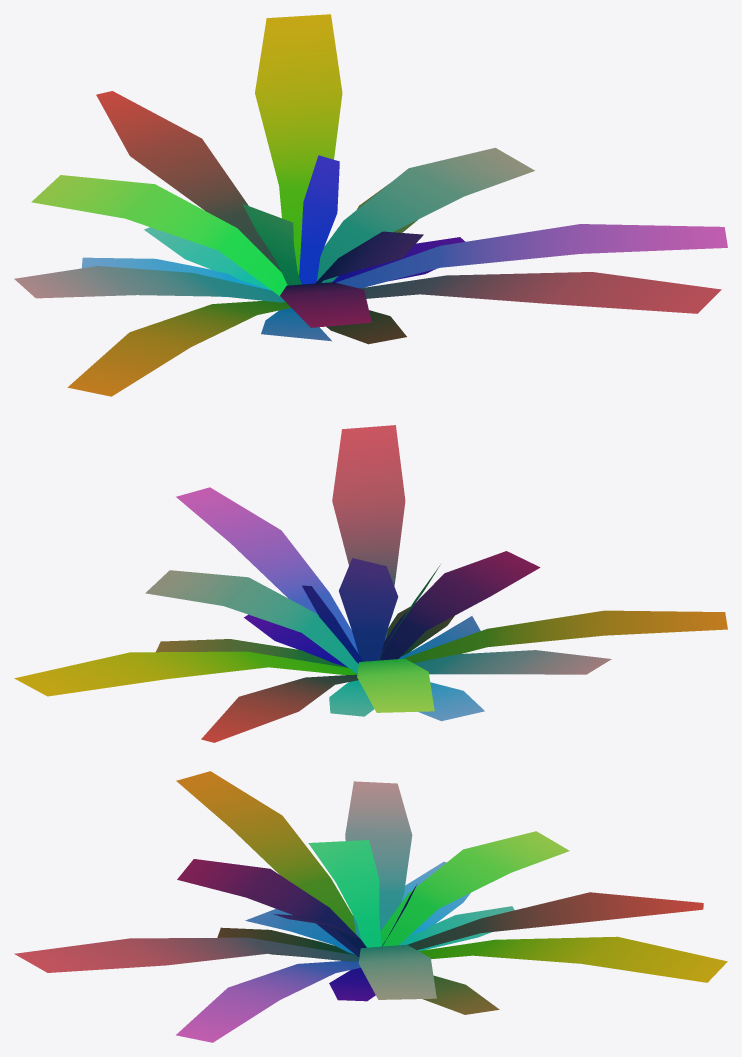
The model's file is Curbside_Weeds_ujzjfexja_Mid_ujzjfexja_VarE_LOD1.fbx.
3 views of the same model, one above another, from view 1: azimuth 30°, elevation 25°; view 2: azimuth 150°, elevation 25°; view 3: azimuth 270°, elevation 25° (orthographic). The views are drawn at different scales.
Parts seen in each view (by area): view 1: _eabc_VarE_LOD2; view 2: _eabc_VarE_LOD2; view 3: _eabc_VarE_LOD2.
Part boxes in pixels (x1,y1,x2,y2): _eabc_VarE_LOD2: (14,14,727,396); _eabc_VarE_LOD2: (14,425,727,742); _eabc_VarE_LOD2: (14,771,727,1042).
Size of the model in its own units: 9.53 by 1.7 by 10.61.
